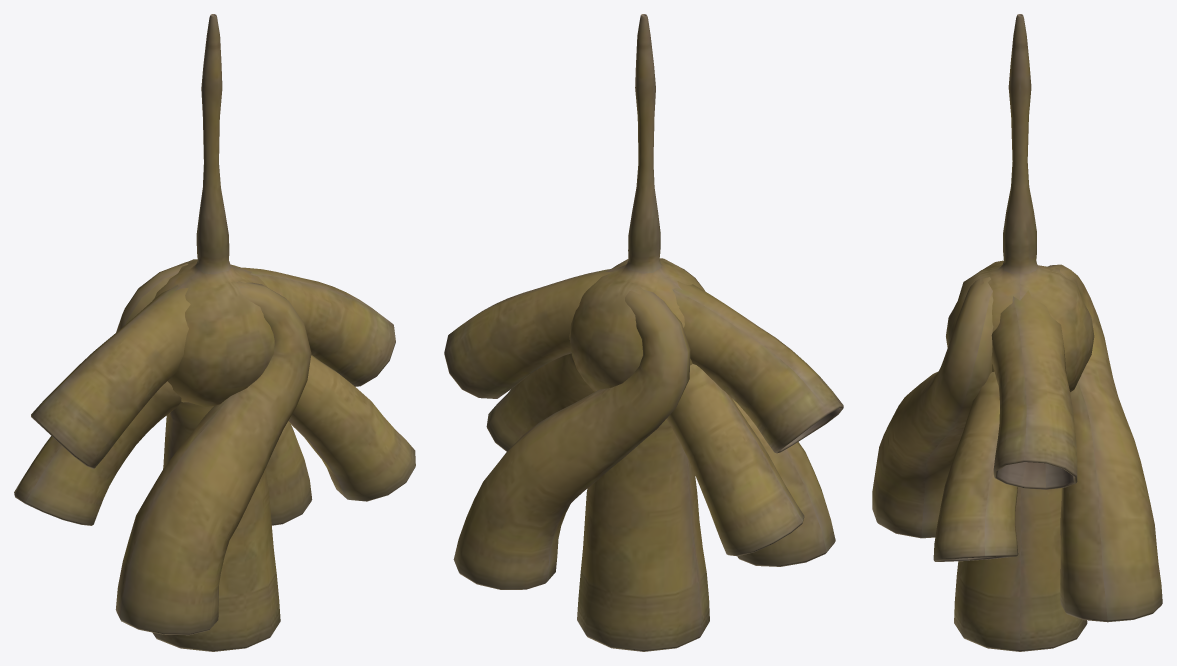
File: weapon-wp_a_4016.glb
3 views of the same model, side by side, from view 1: azimuth 30°, elevation 25°; view 2: azimuth 150°, elevation 25°; view 3: azimuth 270°, elevation 25° (orthographic).
Visible parts, largest first — view 1: wp_a_4016_mesh; view 2: wp_a_4016_mesh; view 3: wp_a_4016_mesh.
Boxes of the visible parts, <box> form: wp_a_4016_mesh: <box>14,14,415,651</box>; wp_a_4016_mesh: <box>444,14,843,651</box>; wp_a_4016_mesh: <box>872,14,1162,651</box>.
Bounding box in the file's own units: 0.9946 × 1.58 × 0.681.
Materials: 1 (1 with a texture image).
